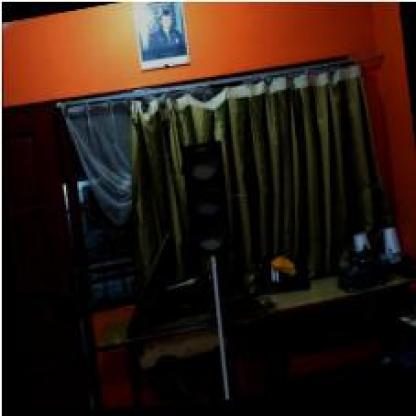yellow: (181, 142, 230, 261)
